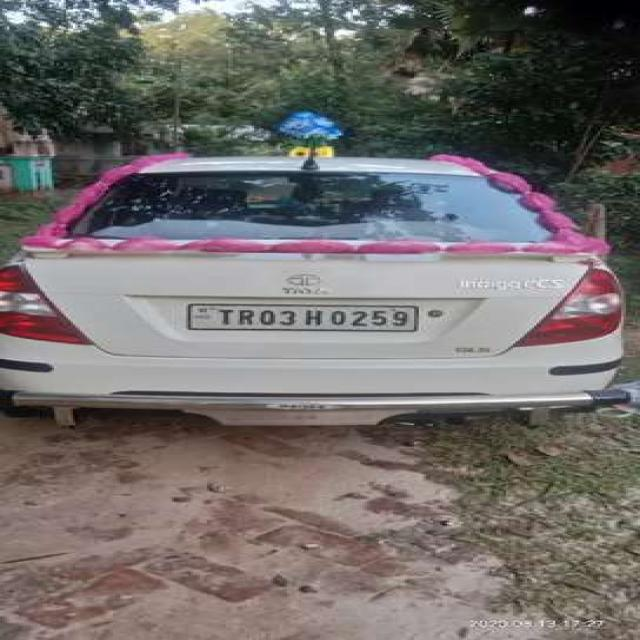Plate: (187, 305, 417, 330)
